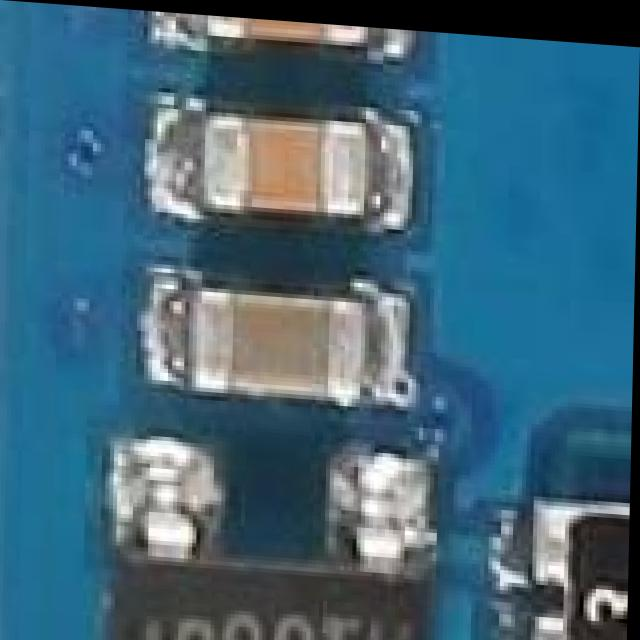capacitor: (197, 262, 388, 403), (217, 95, 379, 210), (223, 13, 384, 58)
resistor: (533, 500, 632, 640)
transistor: (125, 452, 432, 640)
